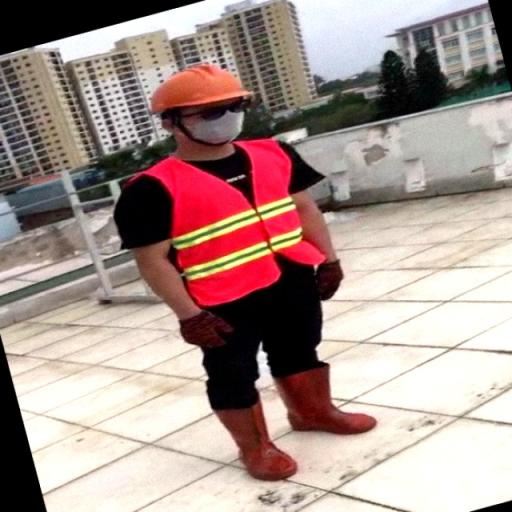Person: (143, 50, 382, 494)
boots: (273, 352, 385, 435), (210, 390, 300, 486)
gloves: (176, 309, 238, 351), (313, 263, 345, 300)
goggles: (179, 100, 251, 123)
helmet: (142, 62, 244, 116)
vest: (132, 139, 336, 312)
